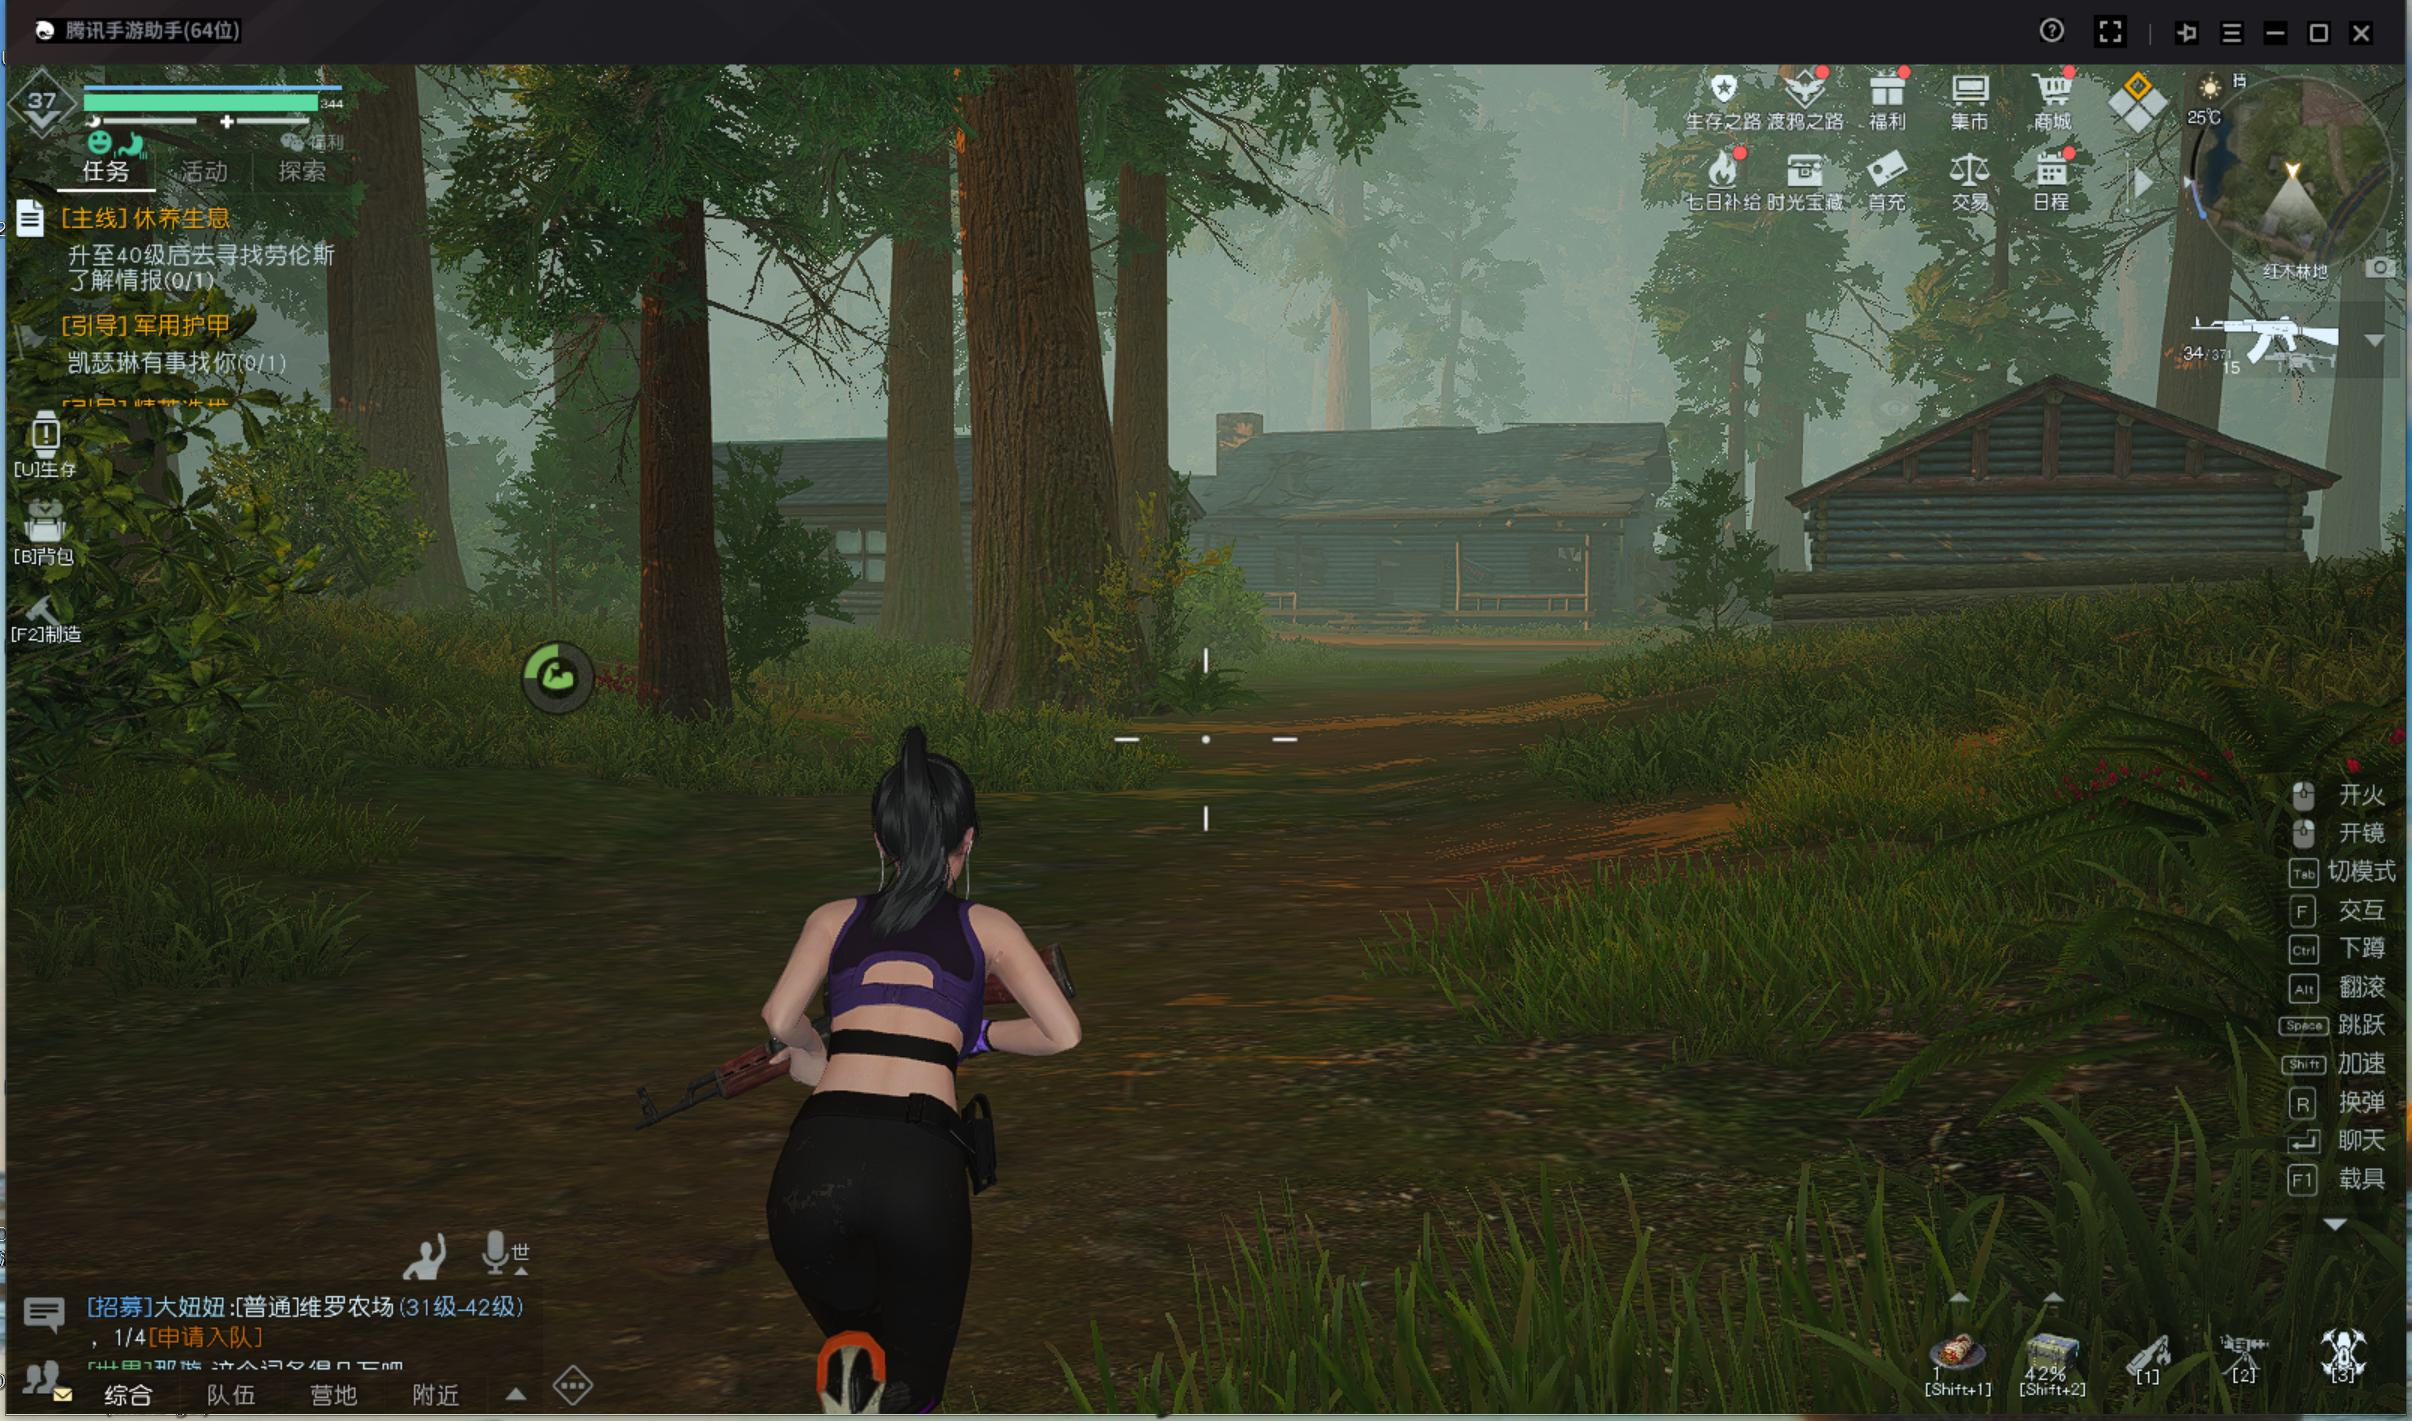tree: (956, 239, 1137, 721), (321, 261, 469, 639), (639, 294, 731, 732), (880, 245, 956, 668)
